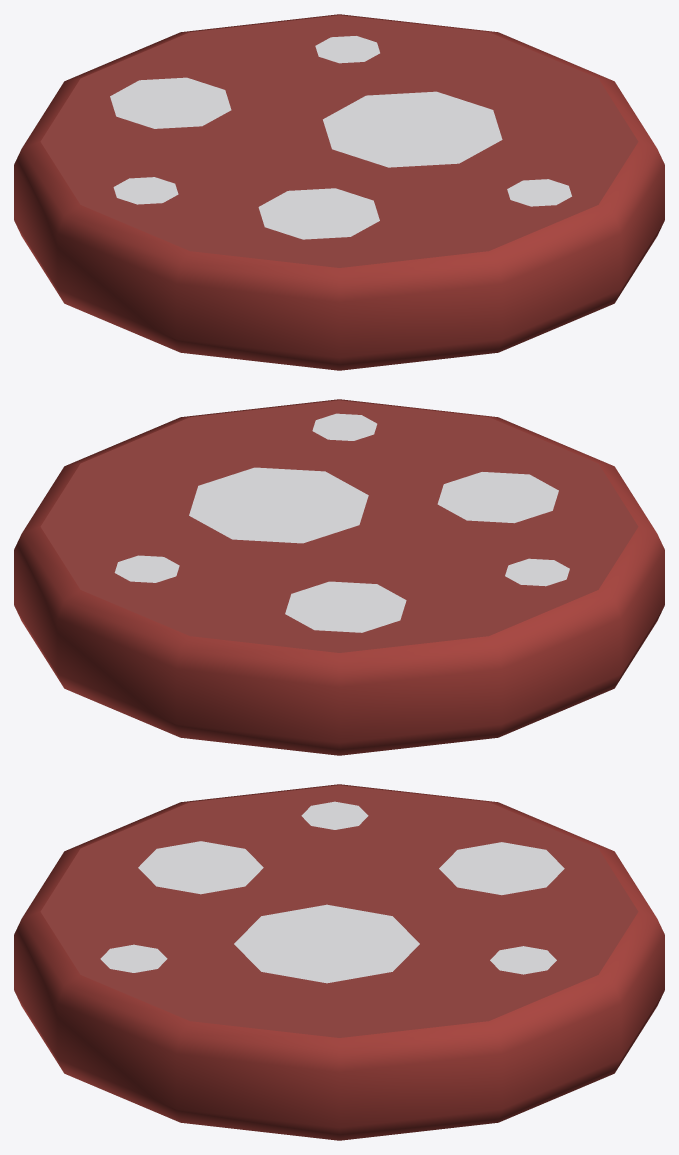
Rendered from Sausage_slise.004.fbx.
3 renders of one model, top to bottom at view 1: azimuth 30°, elevation 25°; view 2: azimuth 150°, elevation 25°; view 3: azimuth 270°, elevation 25°, orthographic.
Visible parts, largest first — view 1: Sausage_slise.004; view 2: Sausage_slise.004; view 3: Sausage_slise.004.
Boxes of the visible parts, box(x1,y1,x2,y2) form: Sausage_slise.004: box(14, 14, 664, 370); Sausage_slise.004: box(14, 399, 664, 755); Sausage_slise.004: box(14, 784, 664, 1140).
Bounding box in the file's own units: 66.66 × 66.66 × 11.55.
